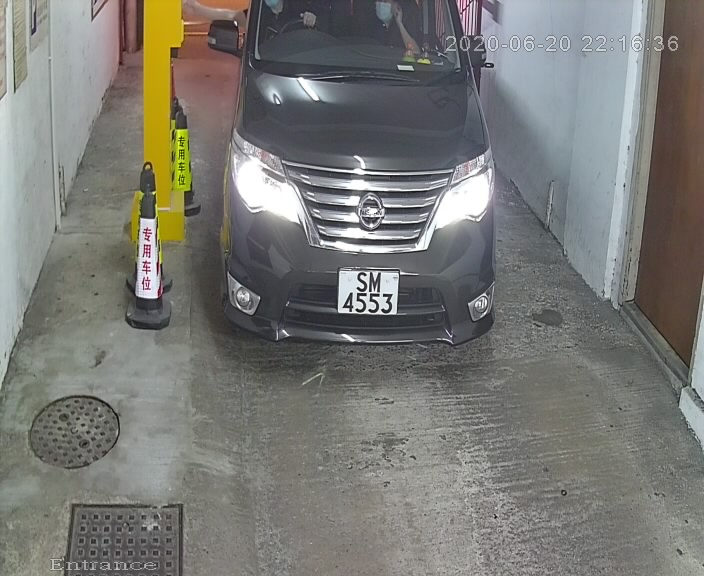privatecar: (189, 1, 525, 421)
